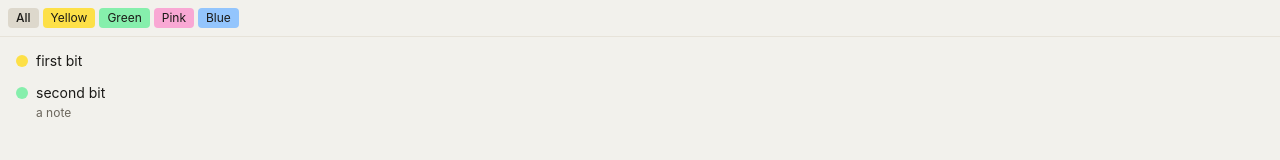
Scenario: filters by color
The width and height of the screenshot is (1280, 160).
Click the button "Green".
click(125, 18)  # box [99, 8, 150, 28]
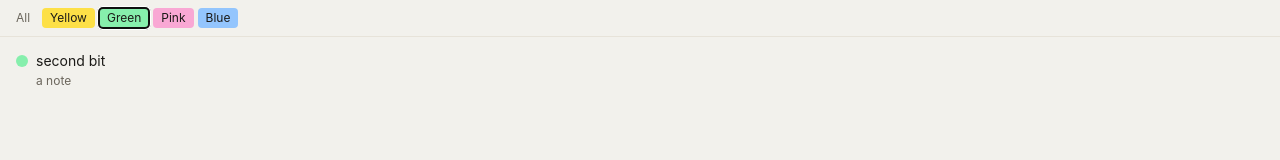
Check: the text "second bit" is shown, box [36, 52, 105, 69]
Check: the button "first bit" is gone
